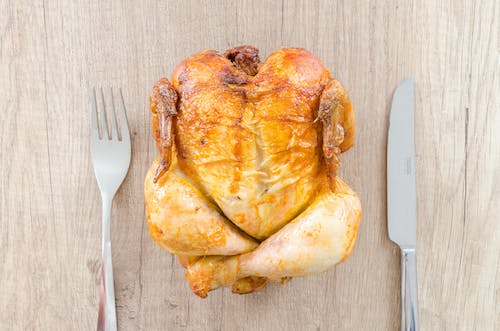knife: (385, 76, 421, 331)
